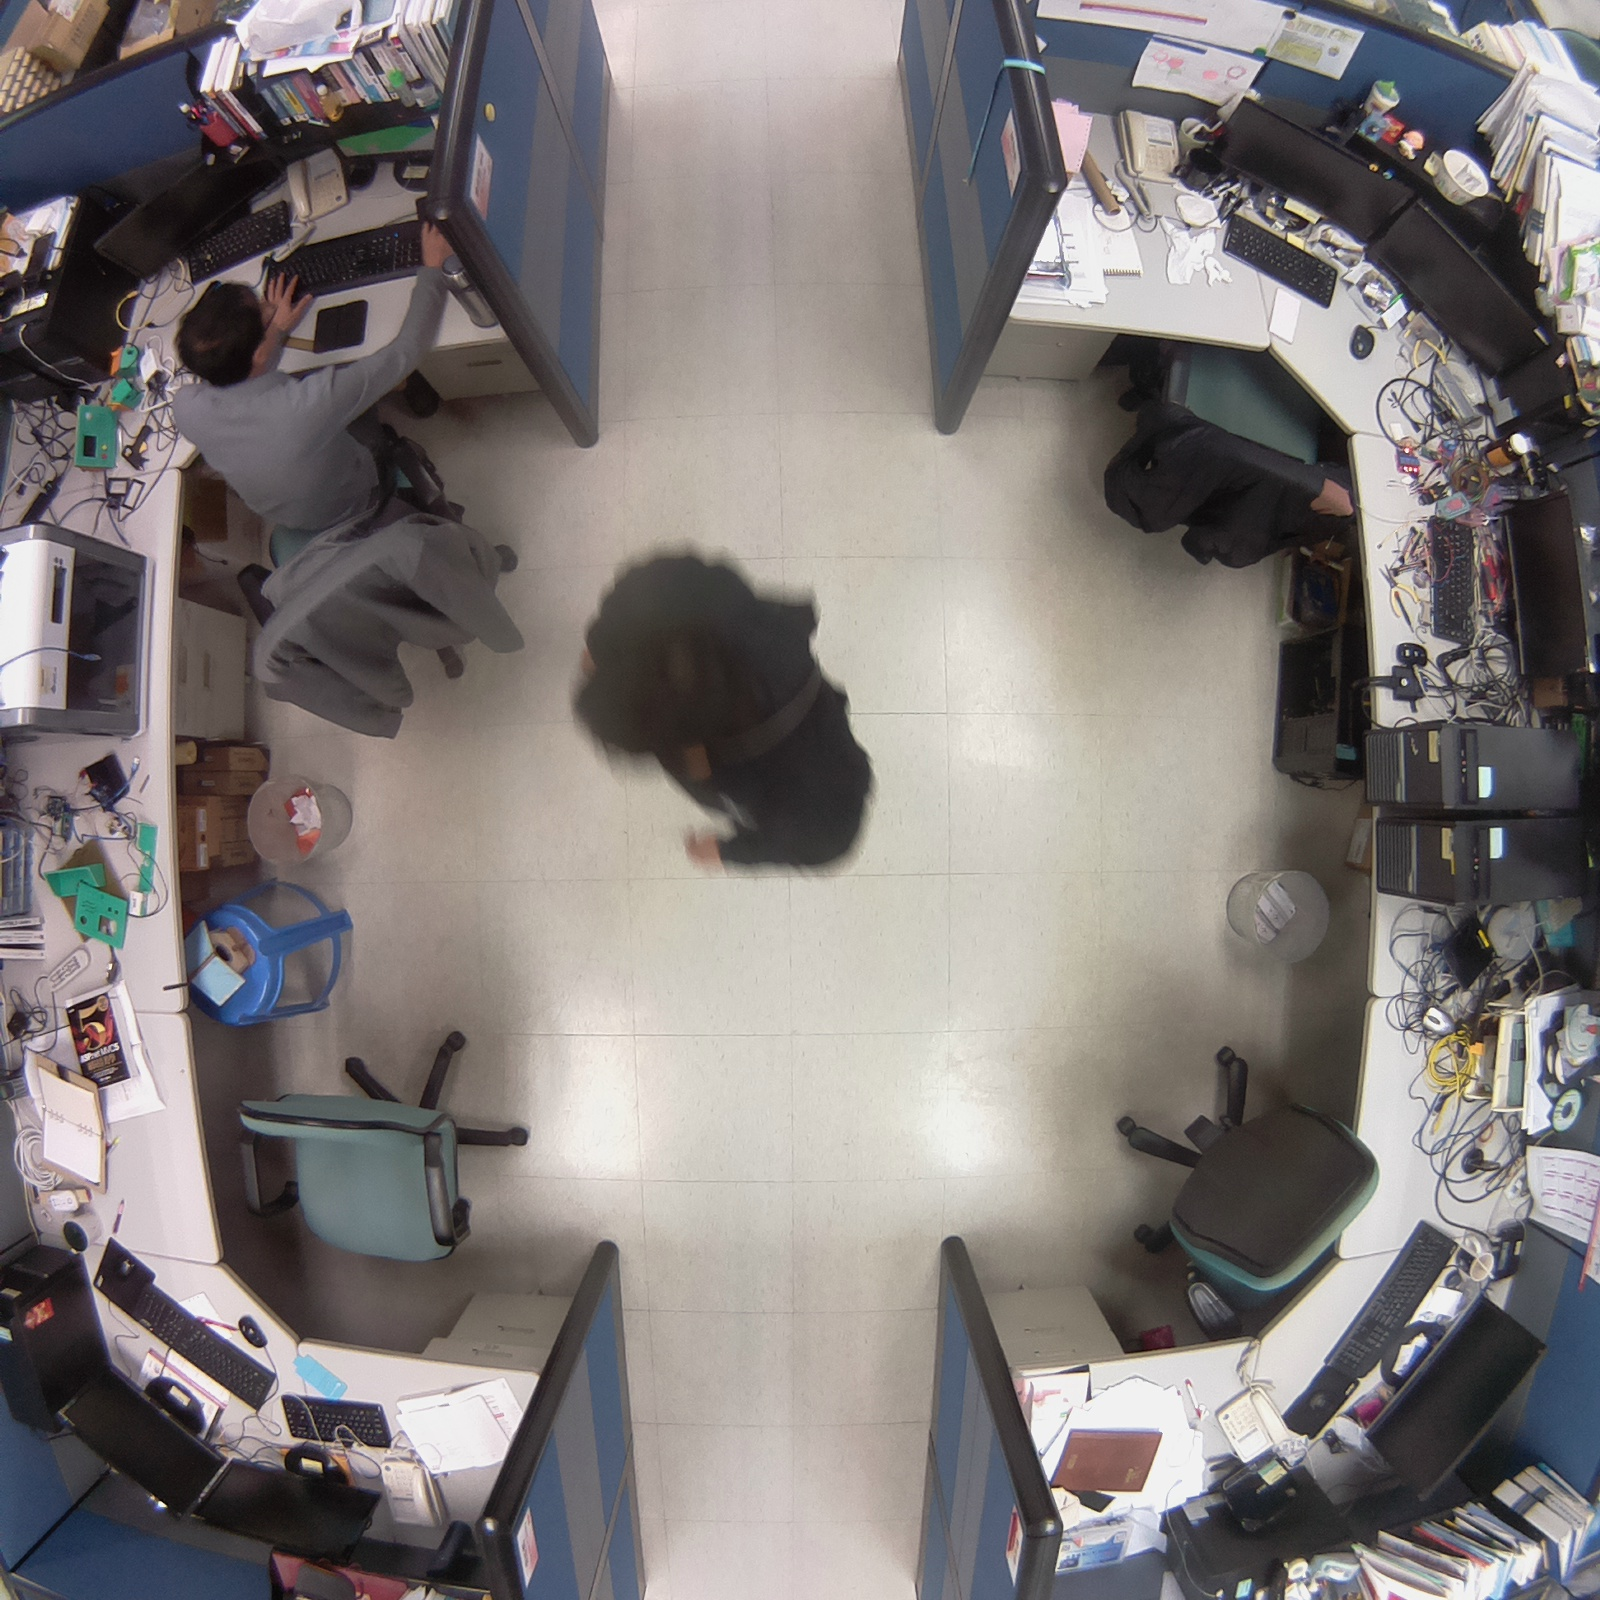chair: (1088, 1034, 1399, 1352), (227, 1001, 560, 1291), (1076, 322, 1381, 596)
head: (568, 536, 766, 774), (172, 278, 280, 387)
sitting: (158, 275, 550, 778)
walking: (562, 537, 886, 887)
